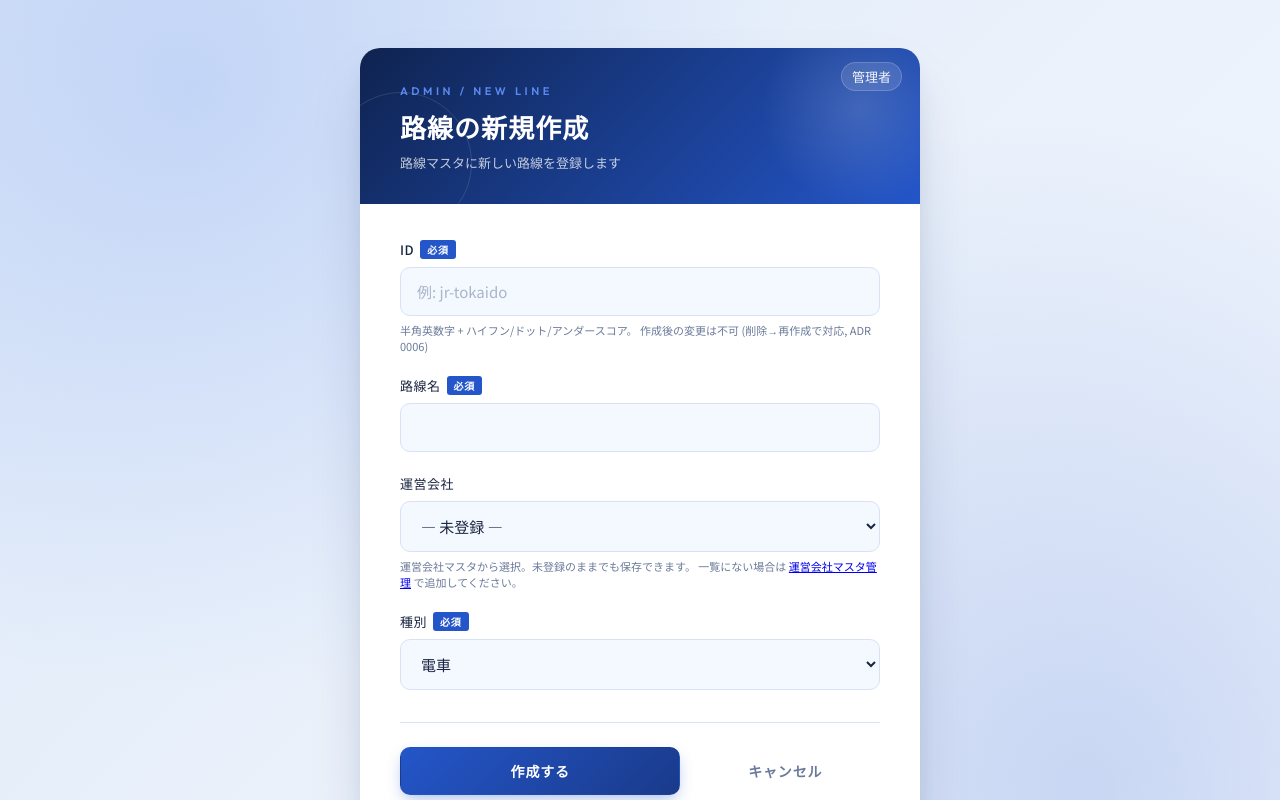
it: AdminLineNew (US-025 新規作成) › ID 空でフィールドエラー (POST 呼ばれない)
Expected: the field labelled "ID 必須" is shown, [400,267,880,316]
Type "X" into the field labelled "路線名 必須".
click(640, 428); type("X")  # box [400,403,880,452]
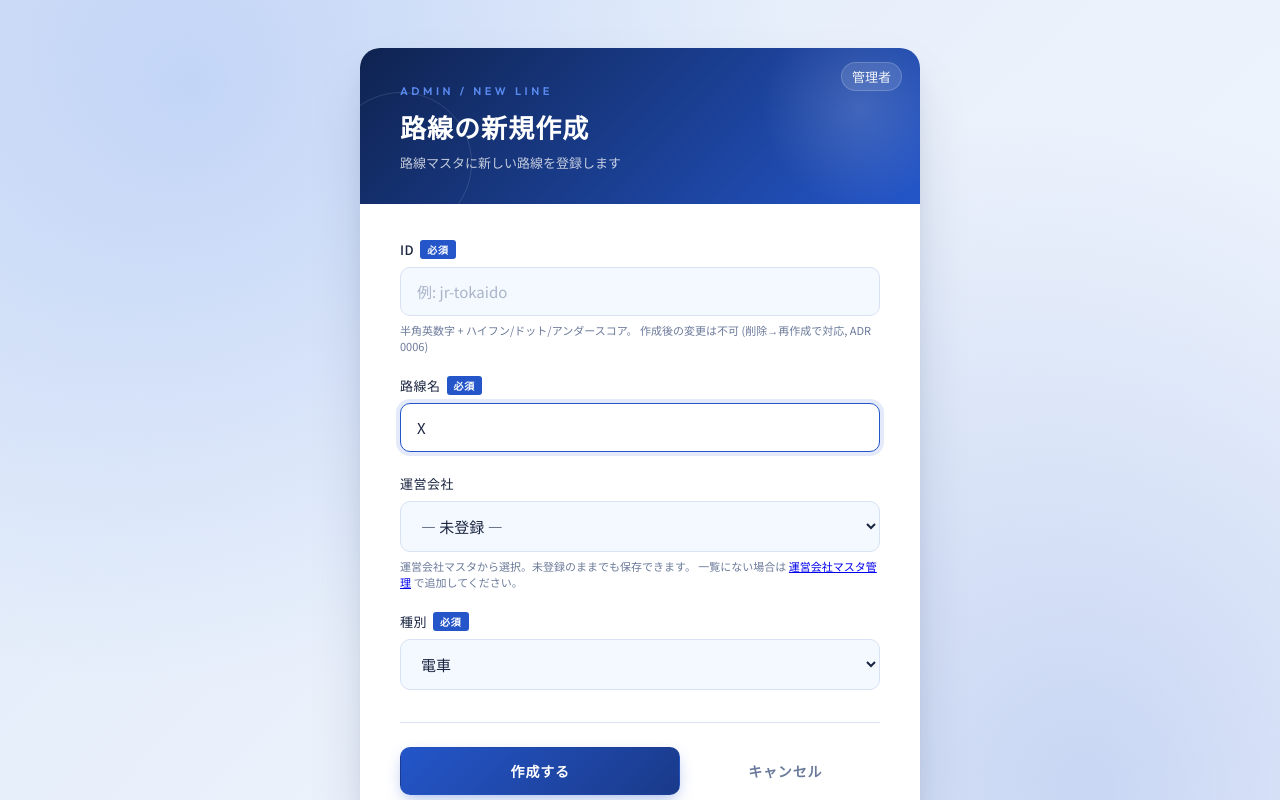
Click the button "作成する".
click(540, 771)  # box [400,747,680,795]
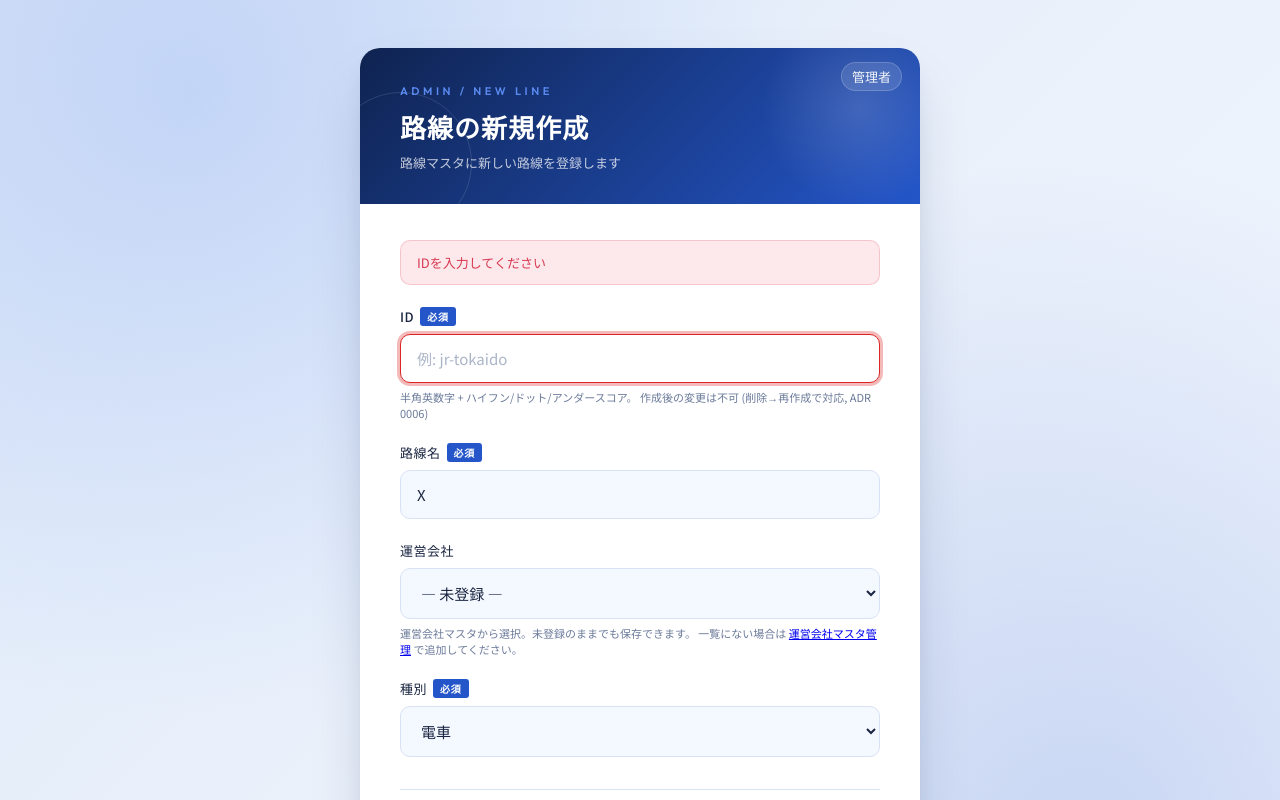
Now the text "IDを入力してください" is shown, box [400,240,880,285]
